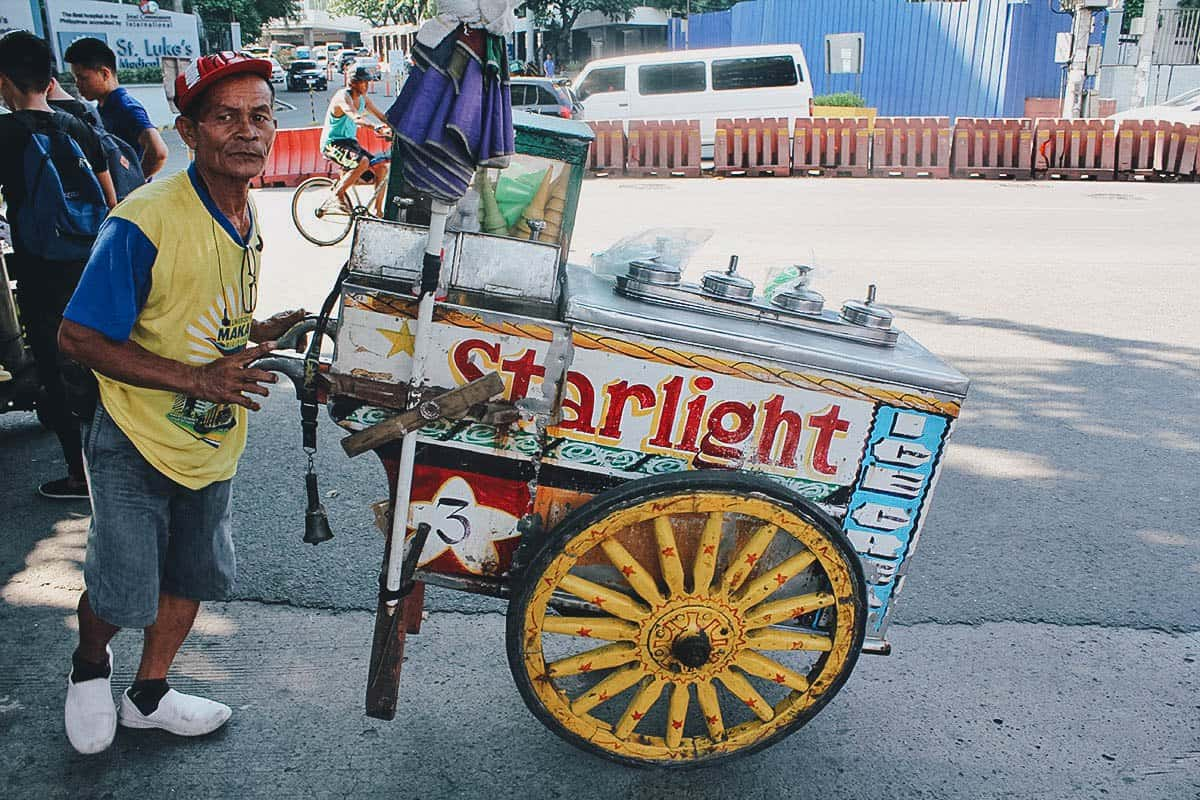car: (582, 44, 816, 118)
cart: (363, 109, 969, 757)
person: (65, 54, 271, 757), (330, 67, 388, 214)
pole: (1060, 2, 1093, 118)
